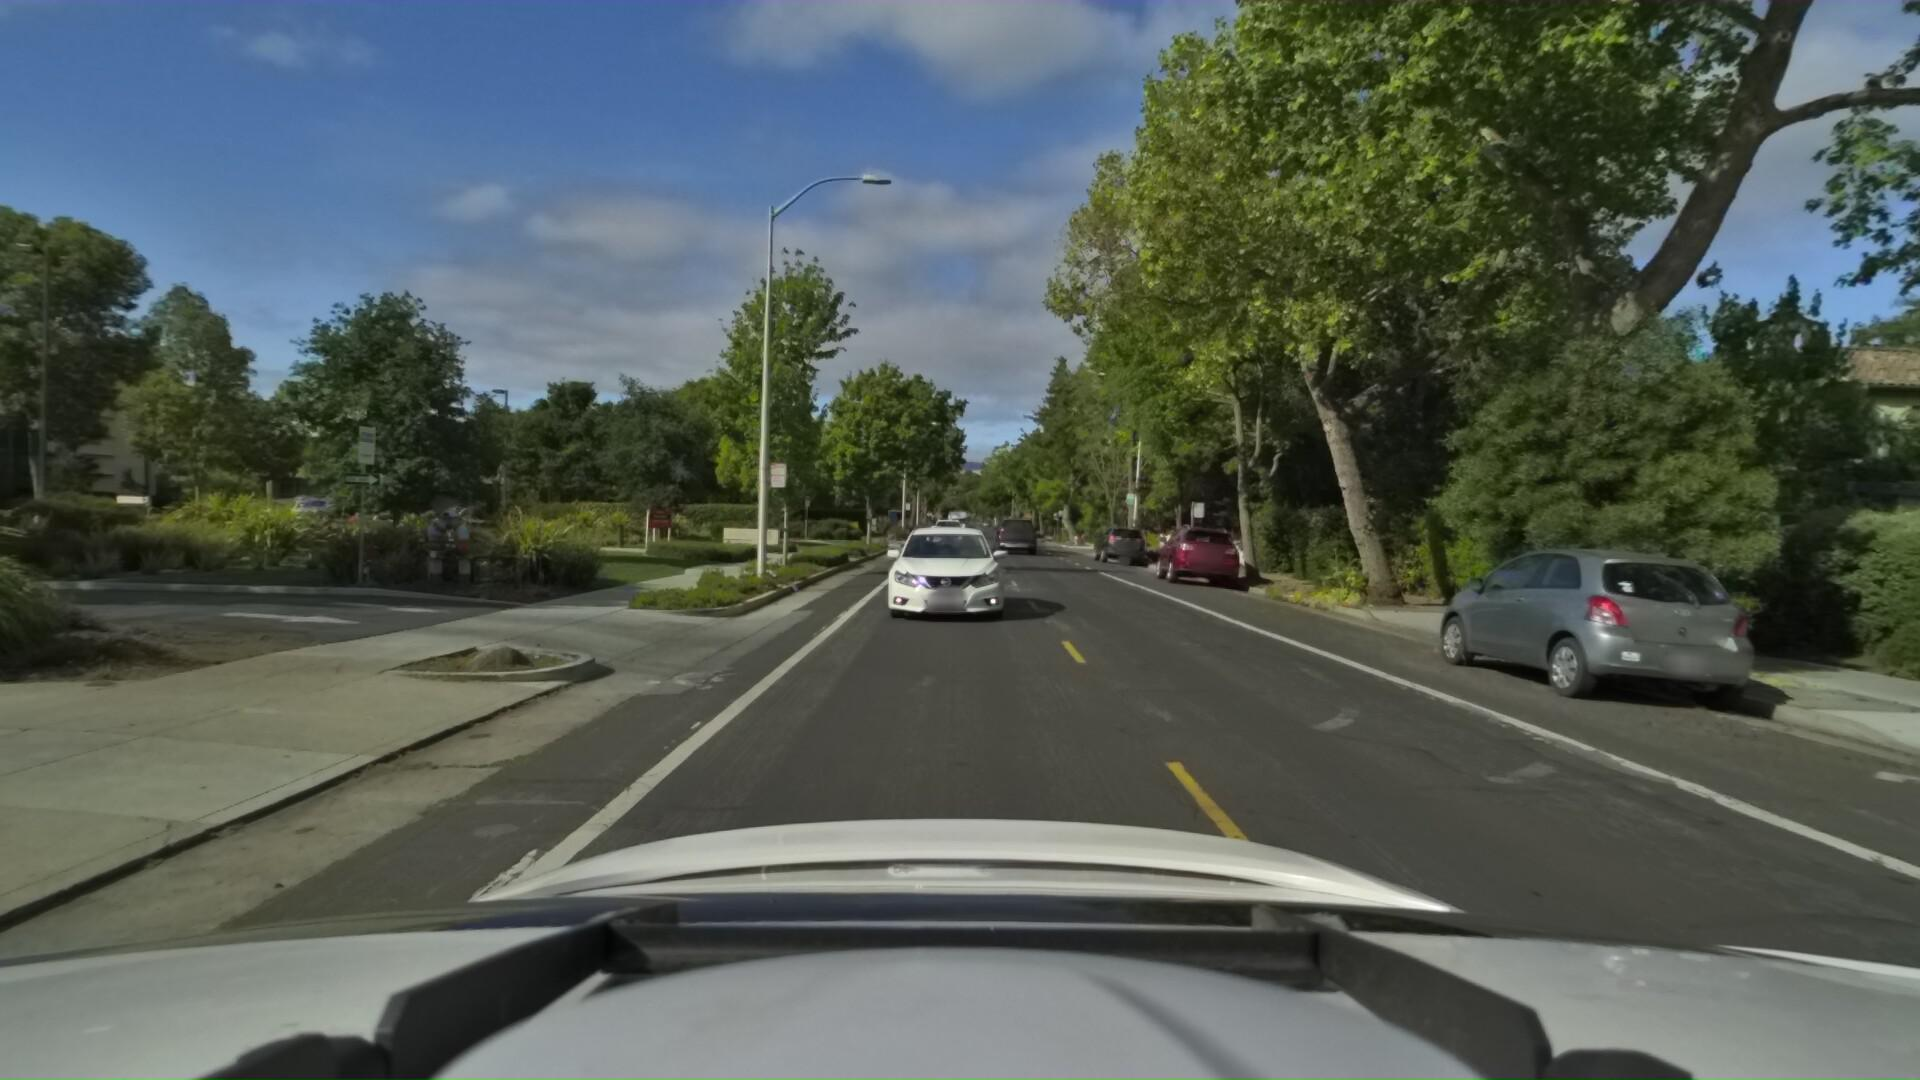car: (1391, 531, 1754, 709), (1563, 531, 1865, 624), (869, 516, 1009, 626), (1147, 520, 1233, 587), (1087, 521, 1141, 564), (988, 513, 1034, 554), (927, 513, 963, 545)
